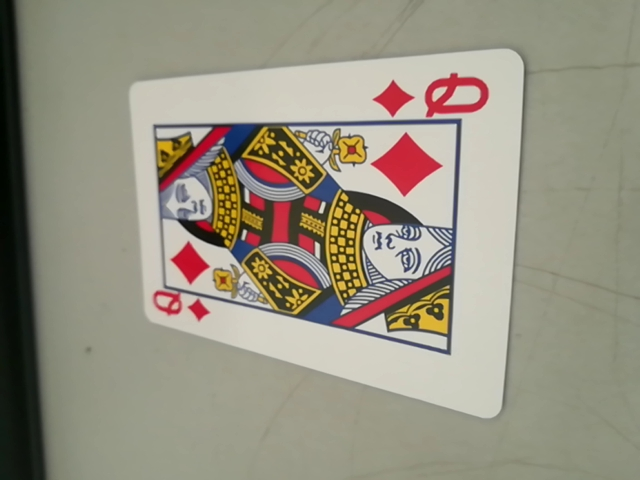fk q: (376, 69, 495, 122), (151, 287, 214, 329)
